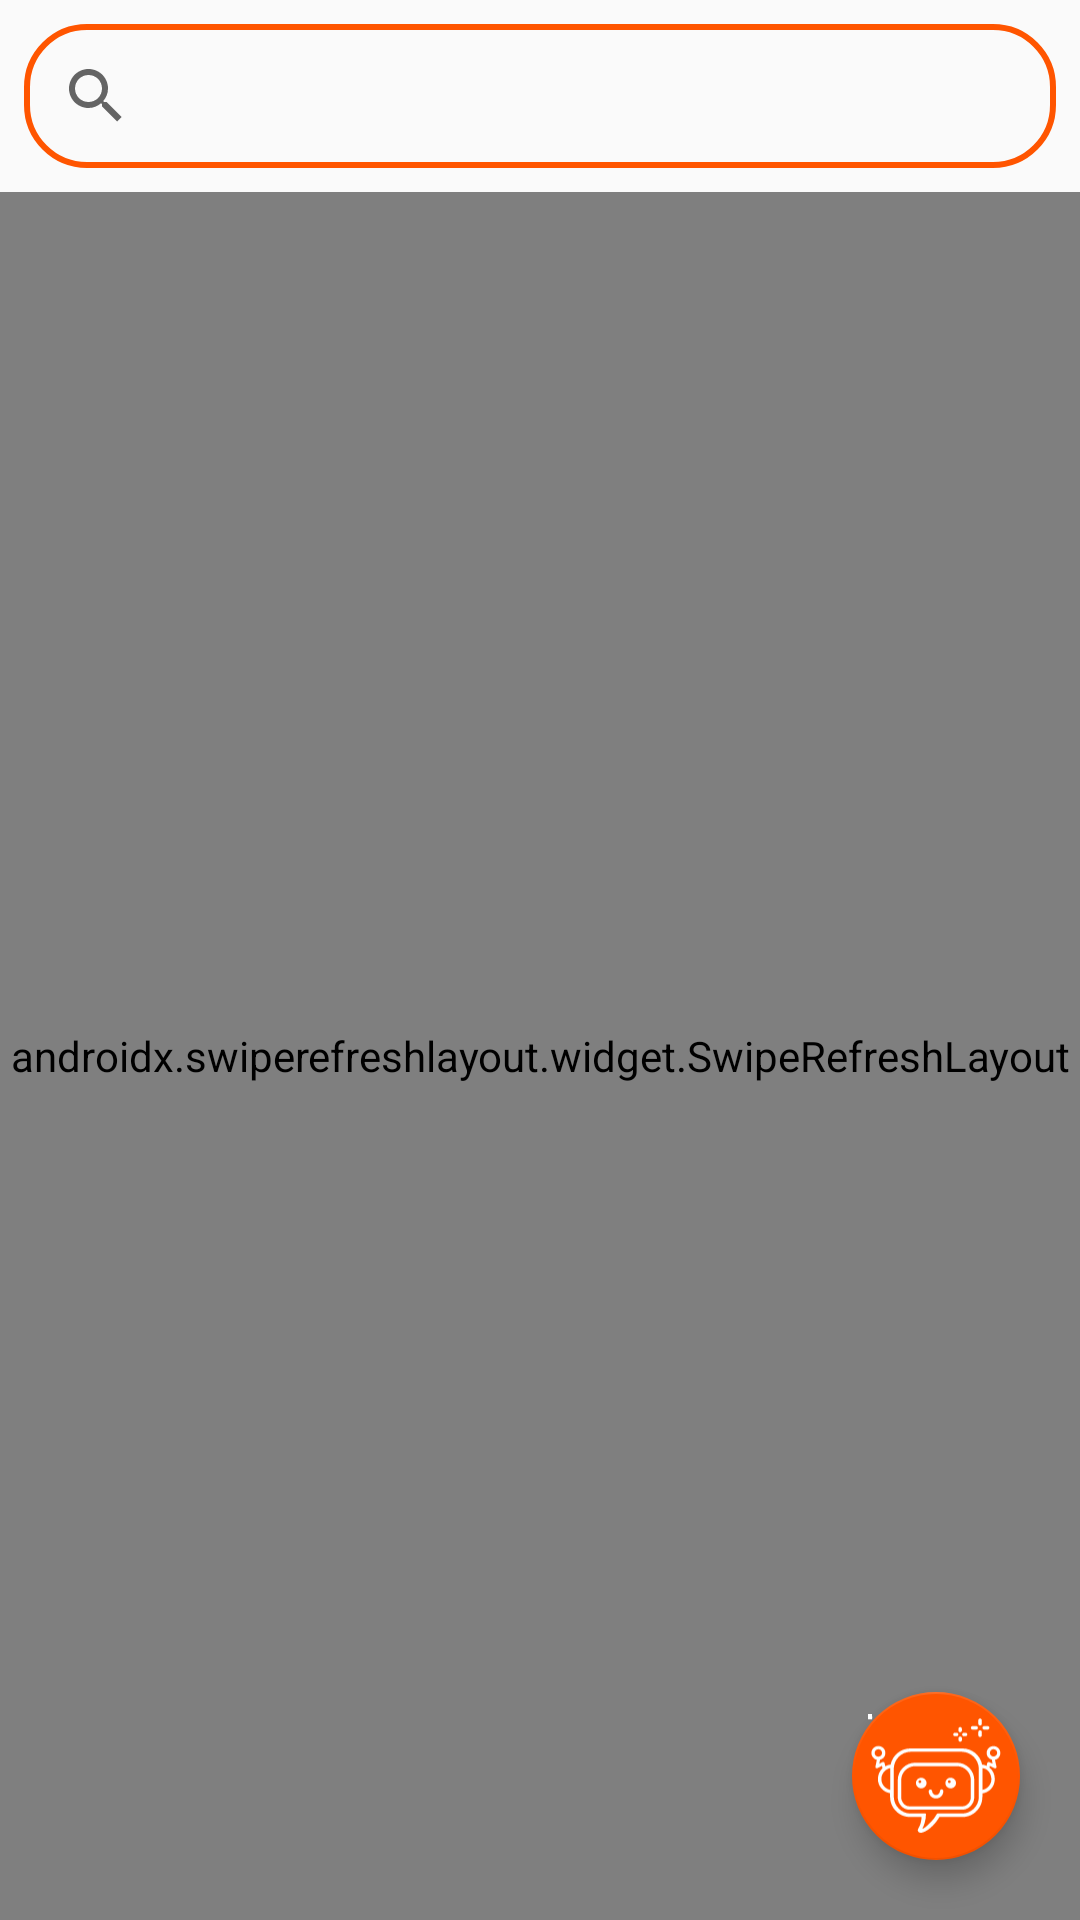

Named icons in this screenshot (1080x1920) and their centers, point (x, y):
chatbot: point (936, 1776)
